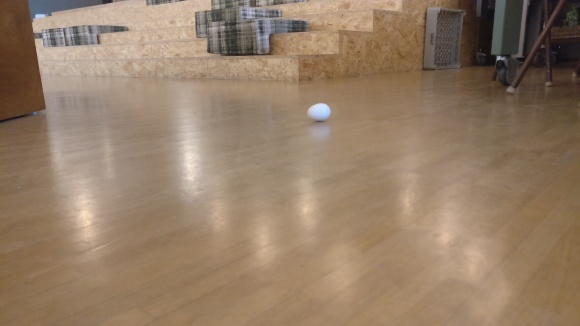egg: (306, 102, 331, 122)
